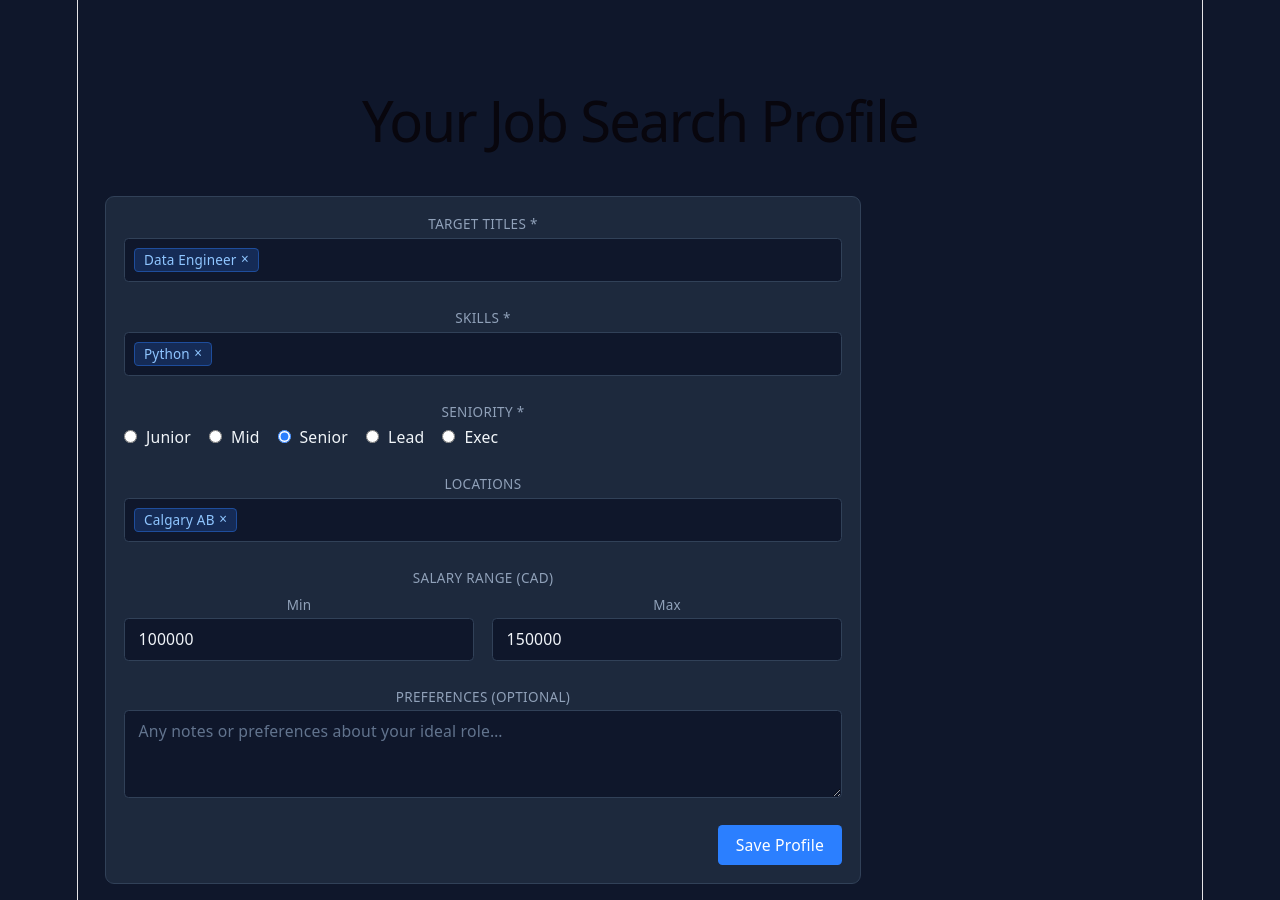
it: ProfileForm › shows toast on successful save
Click the button "Save Profile": [780, 845] box [718,825,842,866]
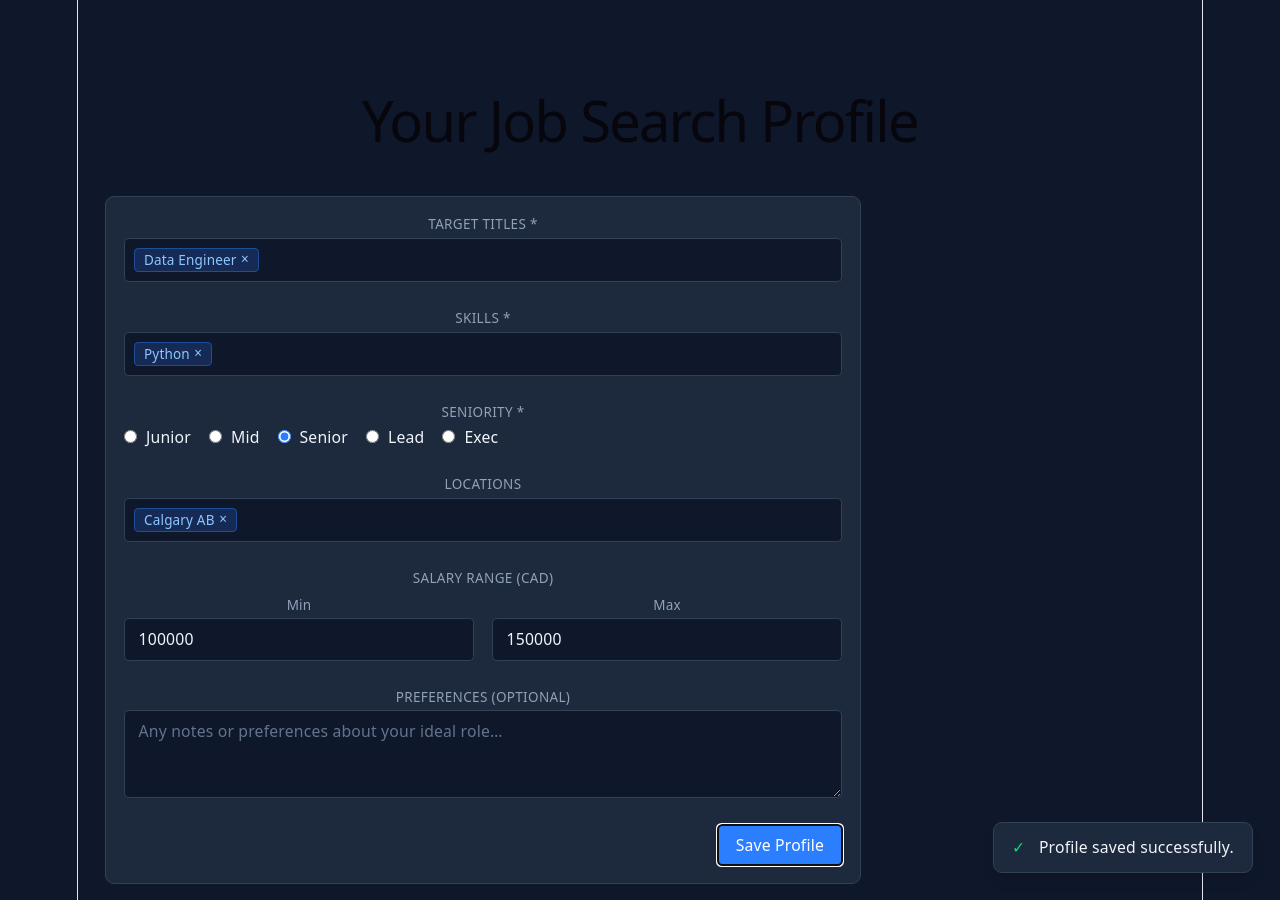
Now the text "✓ Profile saved successfully." is shown, box [993,822,1253,873]
